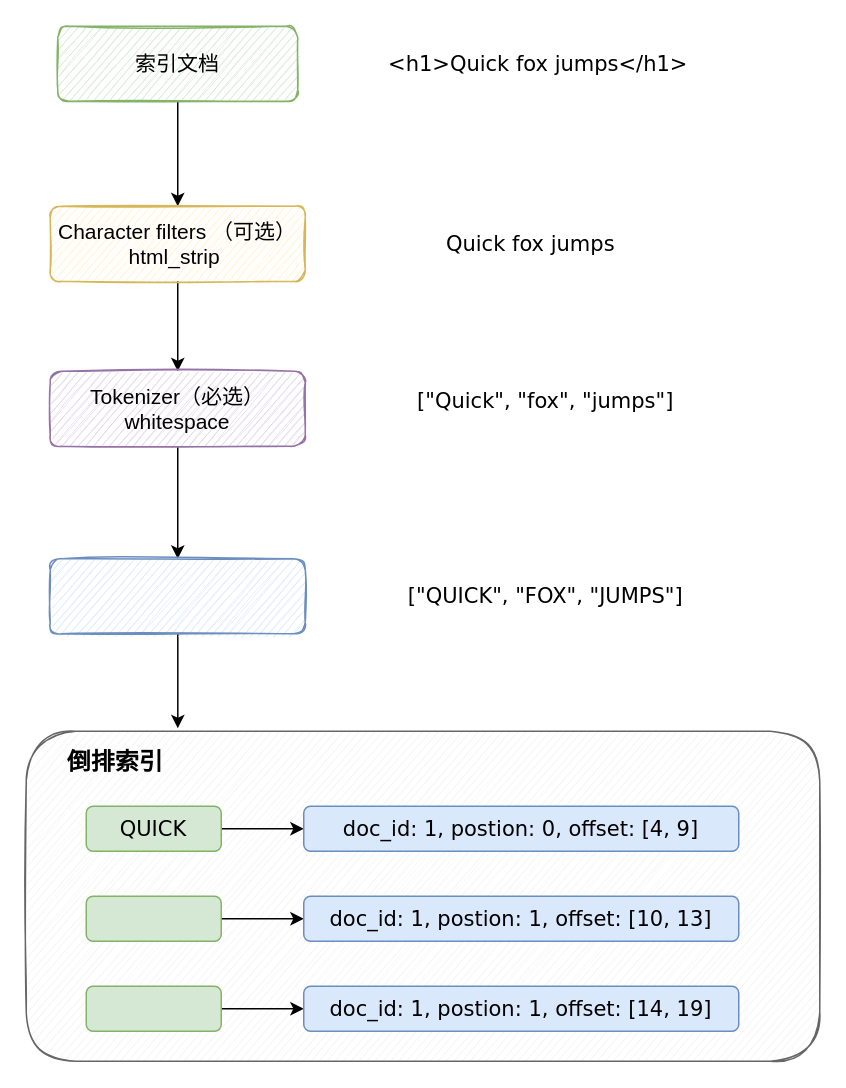
Image size: 846x1088. Some labels were removed from this diagram. Here are the shapes that lost their labels. From the top down, the box of each, then its label:
(49, 557, 305, 634): Token filters（可选） uppercase
(85, 895, 221, 941): FOX
(85, 985, 221, 1031): JUMPS
